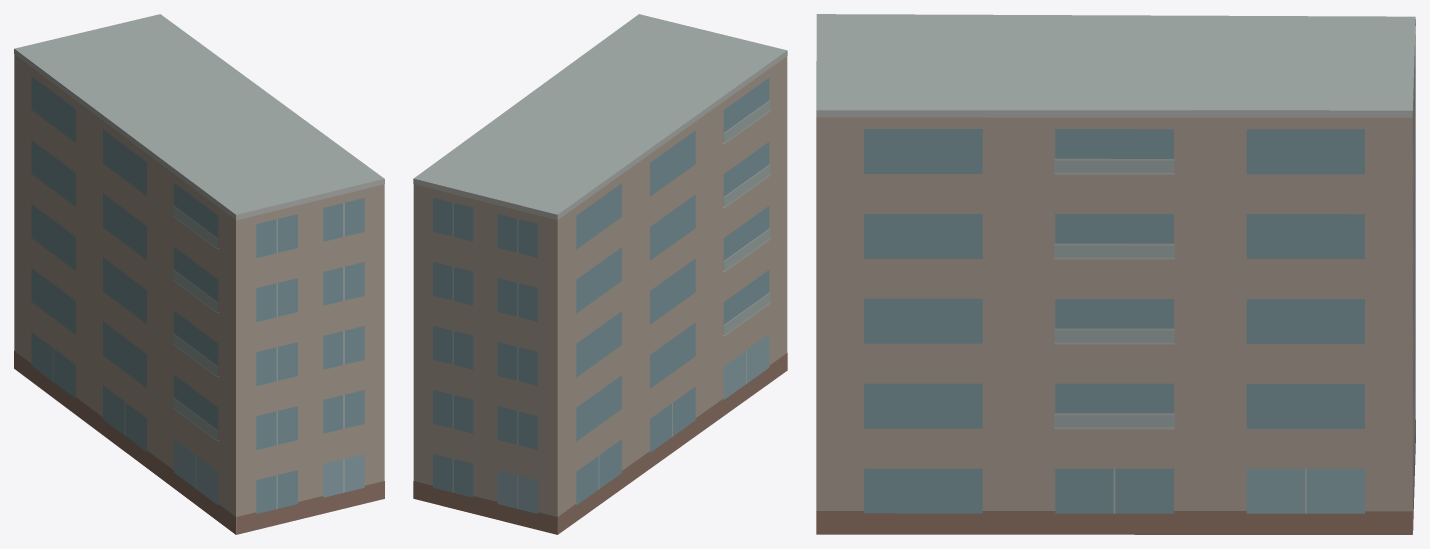
File: survey-upis-32874549.glb
3 renders of one model, left to right at view 1: azimuth 30°, elevation 25°; view 2: azimuth 150°, elevation 25°; view 3: azimuth 270°, elevation 25°, orthographic. The views are drawn at different scales.
Parts seen in each view (by area): view 1: survey-upis-32874549.tmp; view 2: survey-upis-32874549.tmp; view 3: survey-upis-32874549.tmp.
Boxes of the visible parts, bbox=[...] form: survey-upis-32874549.tmp: bbox=[14, 14, 384, 534]; survey-upis-32874549.tmp: bbox=[413, 14, 787, 534]; survey-upis-32874549.tmp: bbox=[816, 14, 1415, 534].
Size of the model in its own units: 7.03 by 14.3 by 18.32.
